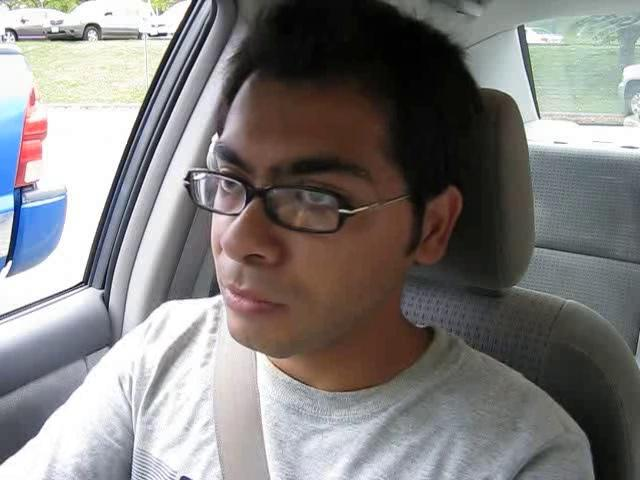no_yawn: (206, 275, 298, 327)
open_eyeL: (193, 161, 265, 220)
open_eyeR: (266, 173, 363, 237)
